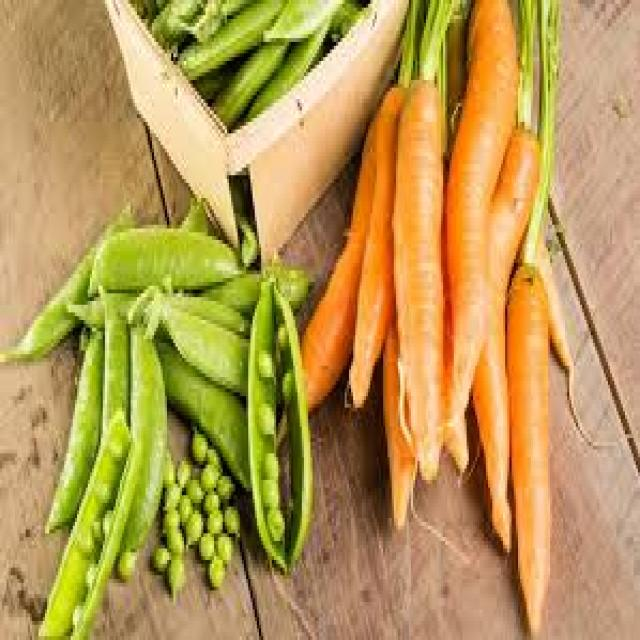organic waste: (443, 0, 518, 469), (469, 122, 537, 552), (36, 408, 142, 636), (390, 72, 448, 484), (0, 202, 133, 358), (503, 259, 550, 636), (349, 80, 402, 408), (302, 126, 355, 415), (154, 332, 248, 488), (126, 278, 248, 396), (268, 270, 310, 572), (40, 324, 100, 533), (244, 278, 285, 568), (116, 320, 164, 560), (84, 221, 235, 297), (516, 224, 571, 426), (518, 0, 557, 263), (379, 297, 415, 530), (242, 23, 330, 118), (174, 0, 282, 69), (64, 294, 246, 332), (197, 266, 310, 324), (210, 42, 284, 118), (96, 286, 126, 450), (417, 0, 457, 72), (261, 0, 342, 34), (177, 0, 248, 34), (514, 0, 533, 122), (394, 0, 422, 80), (146, 0, 199, 42), (178, 191, 205, 236), (329, 0, 361, 34), (235, 210, 252, 259), (165, 556, 182, 598), (188, 426, 204, 464), (115, 545, 135, 575), (205, 552, 222, 587), (259, 472, 276, 507), (182, 507, 199, 541), (254, 343, 270, 377), (220, 503, 238, 533), (280, 362, 294, 400), (184, 472, 199, 507), (195, 530, 212, 560), (165, 526, 182, 556), (148, 541, 165, 571), (257, 400, 272, 434), (216, 469, 231, 499), (214, 530, 231, 556), (158, 506, 176, 530), (176, 491, 188, 526), (266, 507, 280, 537), (199, 461, 214, 488), (79, 530, 94, 556), (160, 453, 173, 480), (162, 480, 175, 507), (96, 480, 109, 507), (201, 488, 216, 510), (261, 450, 276, 472), (174, 457, 188, 480), (84, 560, 94, 590), (206, 506, 218, 530), (99, 511, 109, 537), (204, 446, 218, 464), (274, 324, 285, 346), (69, 602, 79, 625), (109, 438, 120, 457), (90, 514, 98, 537)
